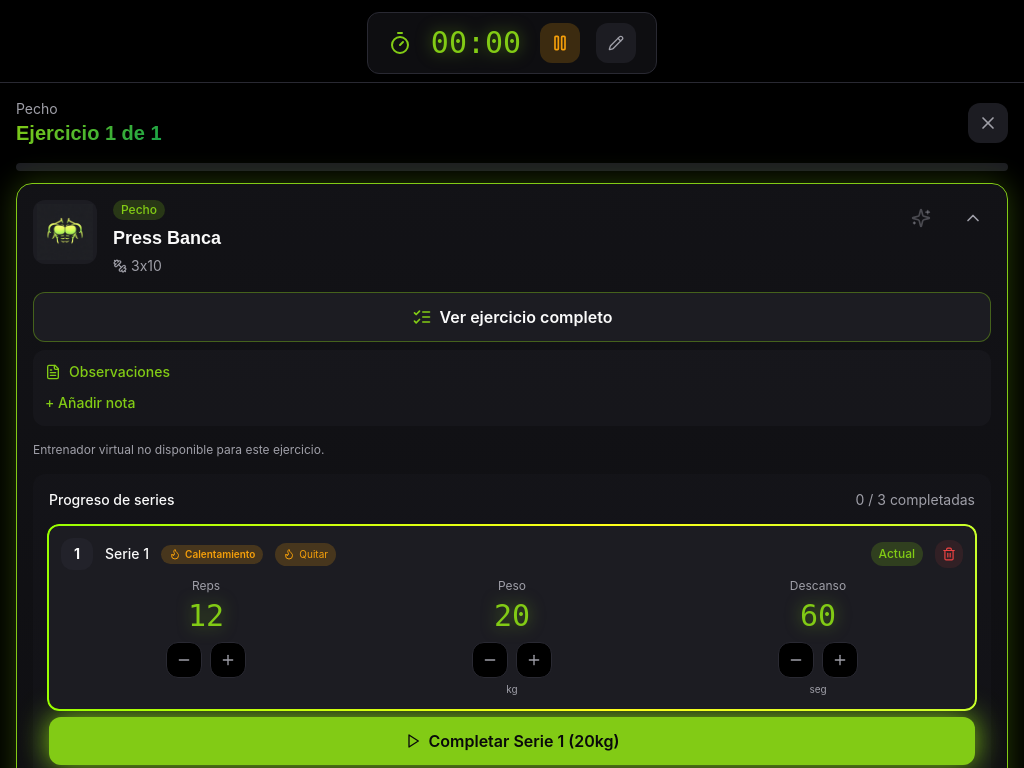
Test: vista del ejercicio completo durante la ejecución › refleja los valores efectivos, incluidos cambios de la sesión
Click the button "Ver ejercicio completo" at (512, 317), box [33,292,991,342]
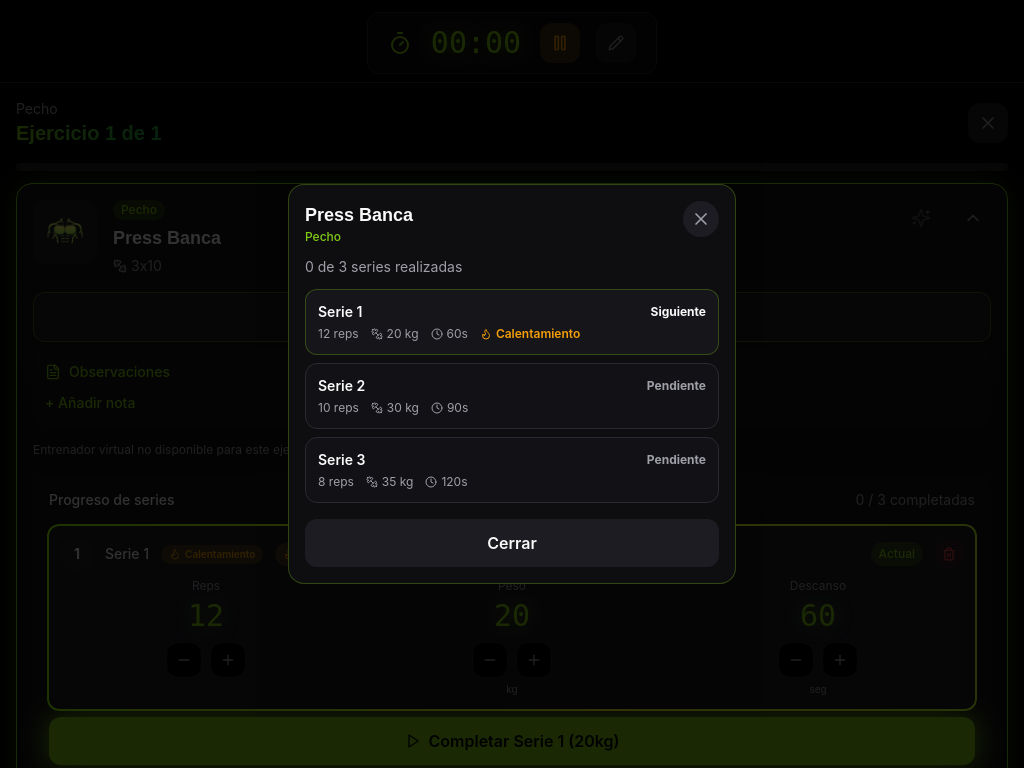
Check: the element with test id "plan-set-1" shows "20 kg", box [305,289,719,355]
Click the button named "Cerrar" at (701, 219), box [683,201,719,237]
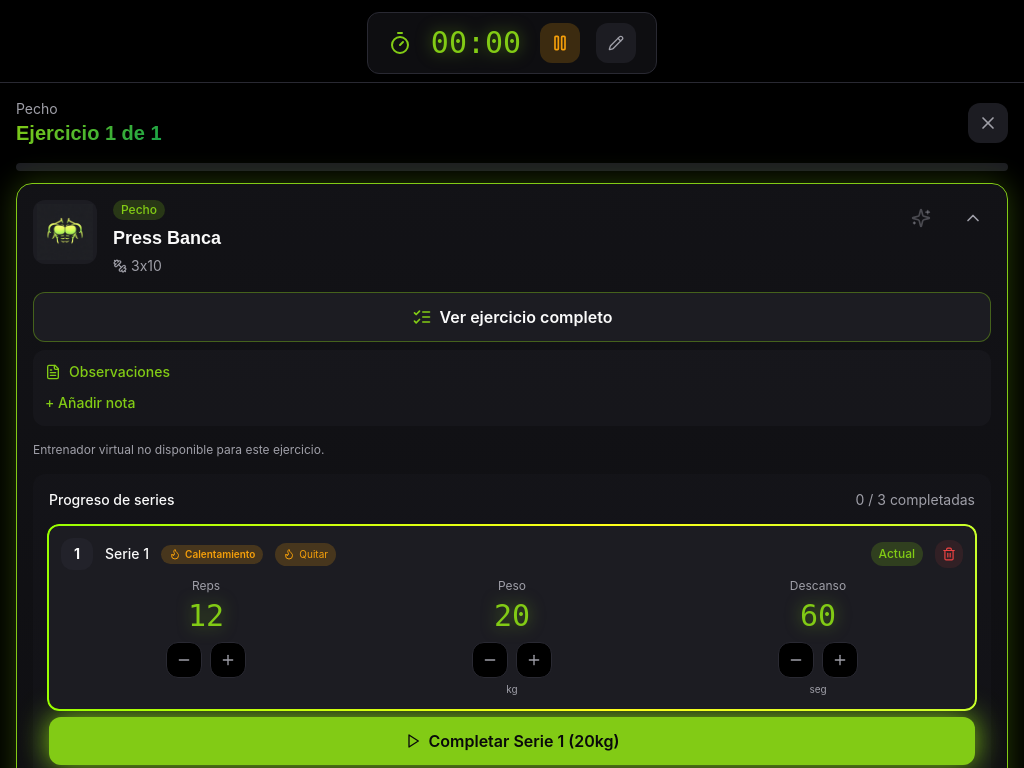
Click the button with class "lucide-plus" at (534, 660), box [516,642,552,678]
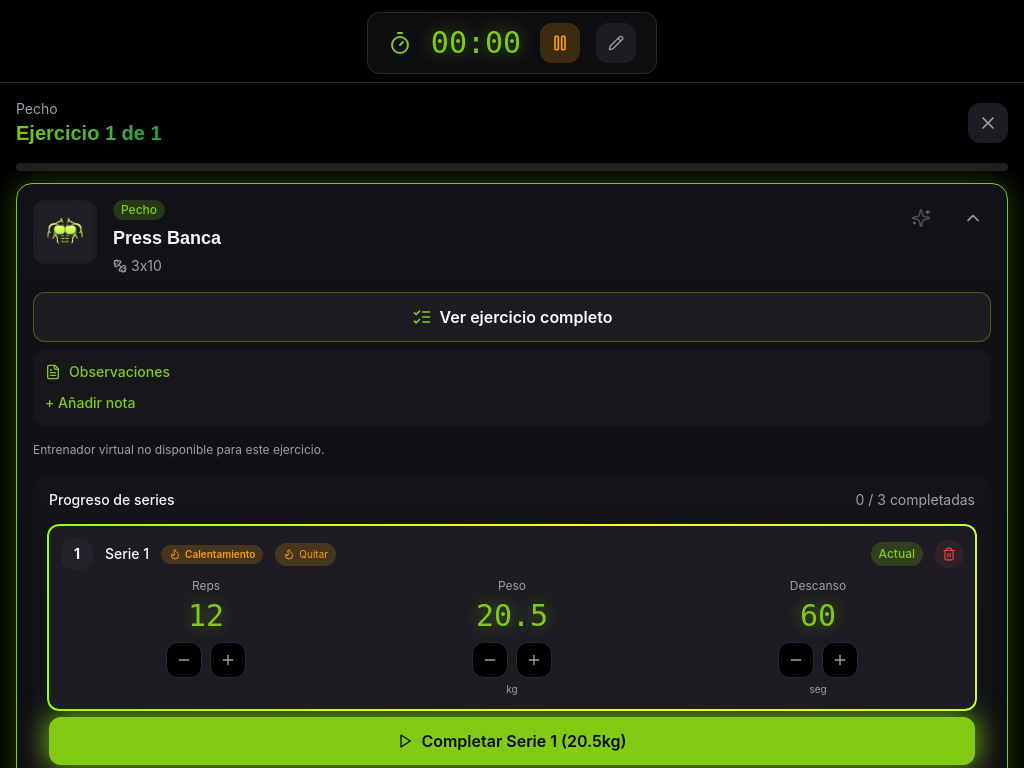
Click the button "Ver ejercicio completo" at (512, 317), box [33,292,991,342]
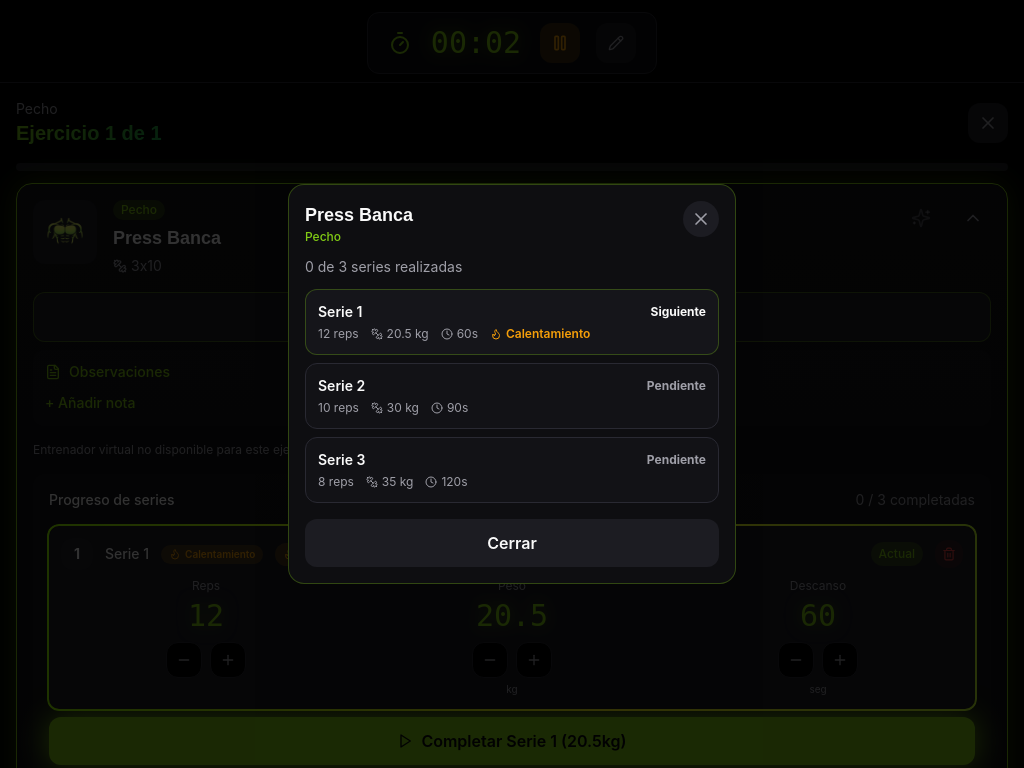
Check: the element with test id "plan-set-1" shows "20.5 kg", box [305,289,719,355]
